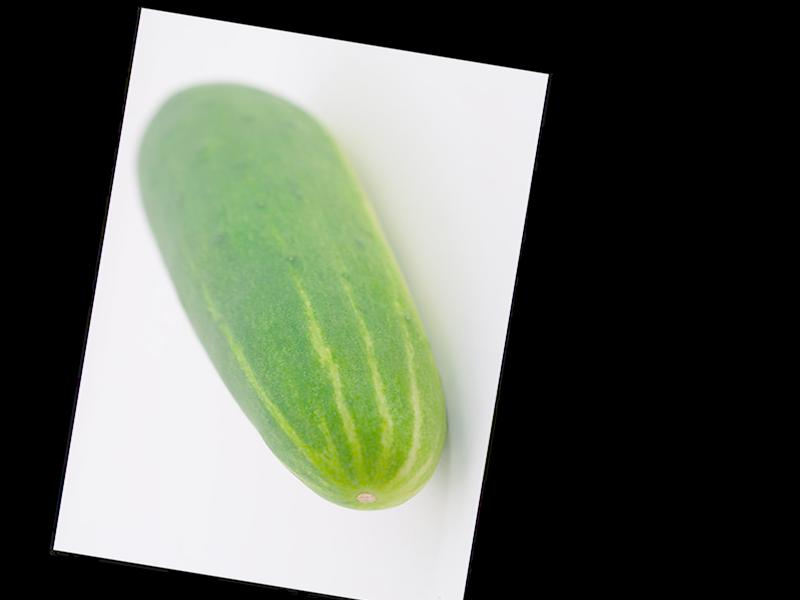Cucumber: (86, 69, 495, 521)
